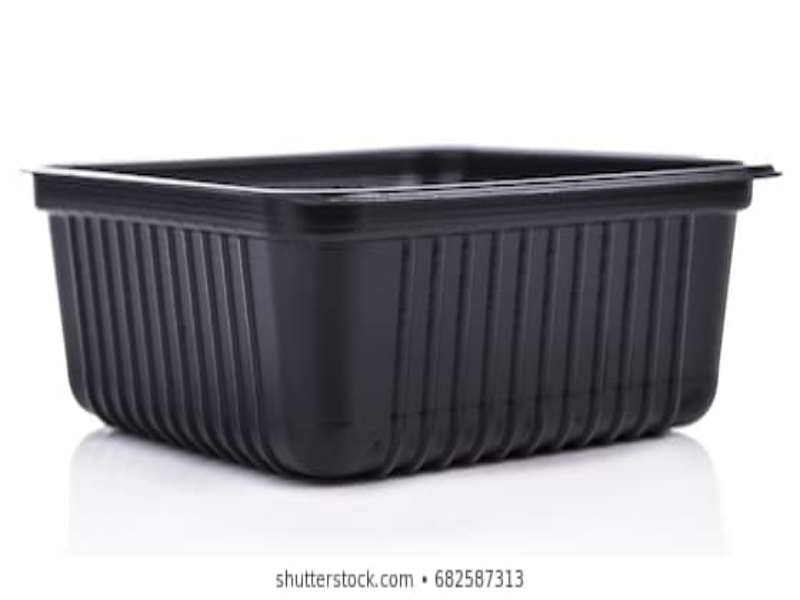plastic-container: (11, 143, 784, 480)
